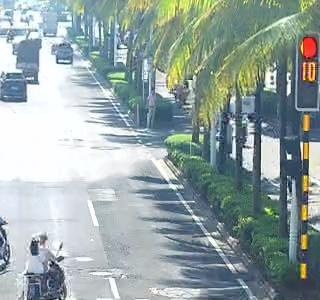redpeople: (294, 37, 318, 61)
redtime: (296, 62, 320, 85)
